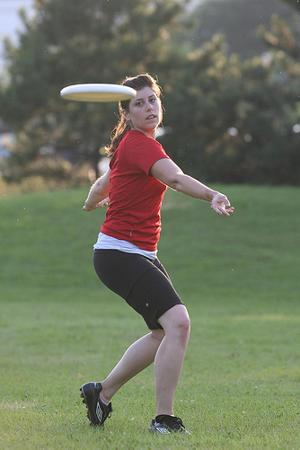person: (80, 74, 234, 436)
